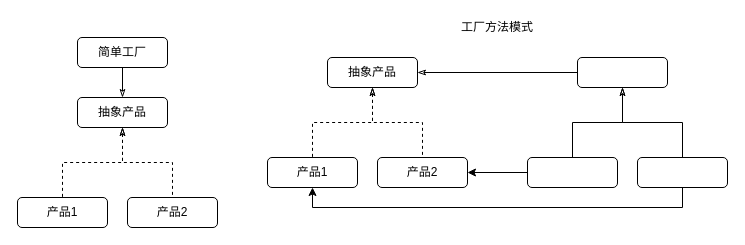
Some shapes in this 745 by 245 pixel diagram are drawn without their labels. Here are the shapes that lost their labels. From the top down, the centre of each, then its label:
point (622, 72): 抽象工厂
point (572, 172): 工厂1
point (682, 172): 工厂2
